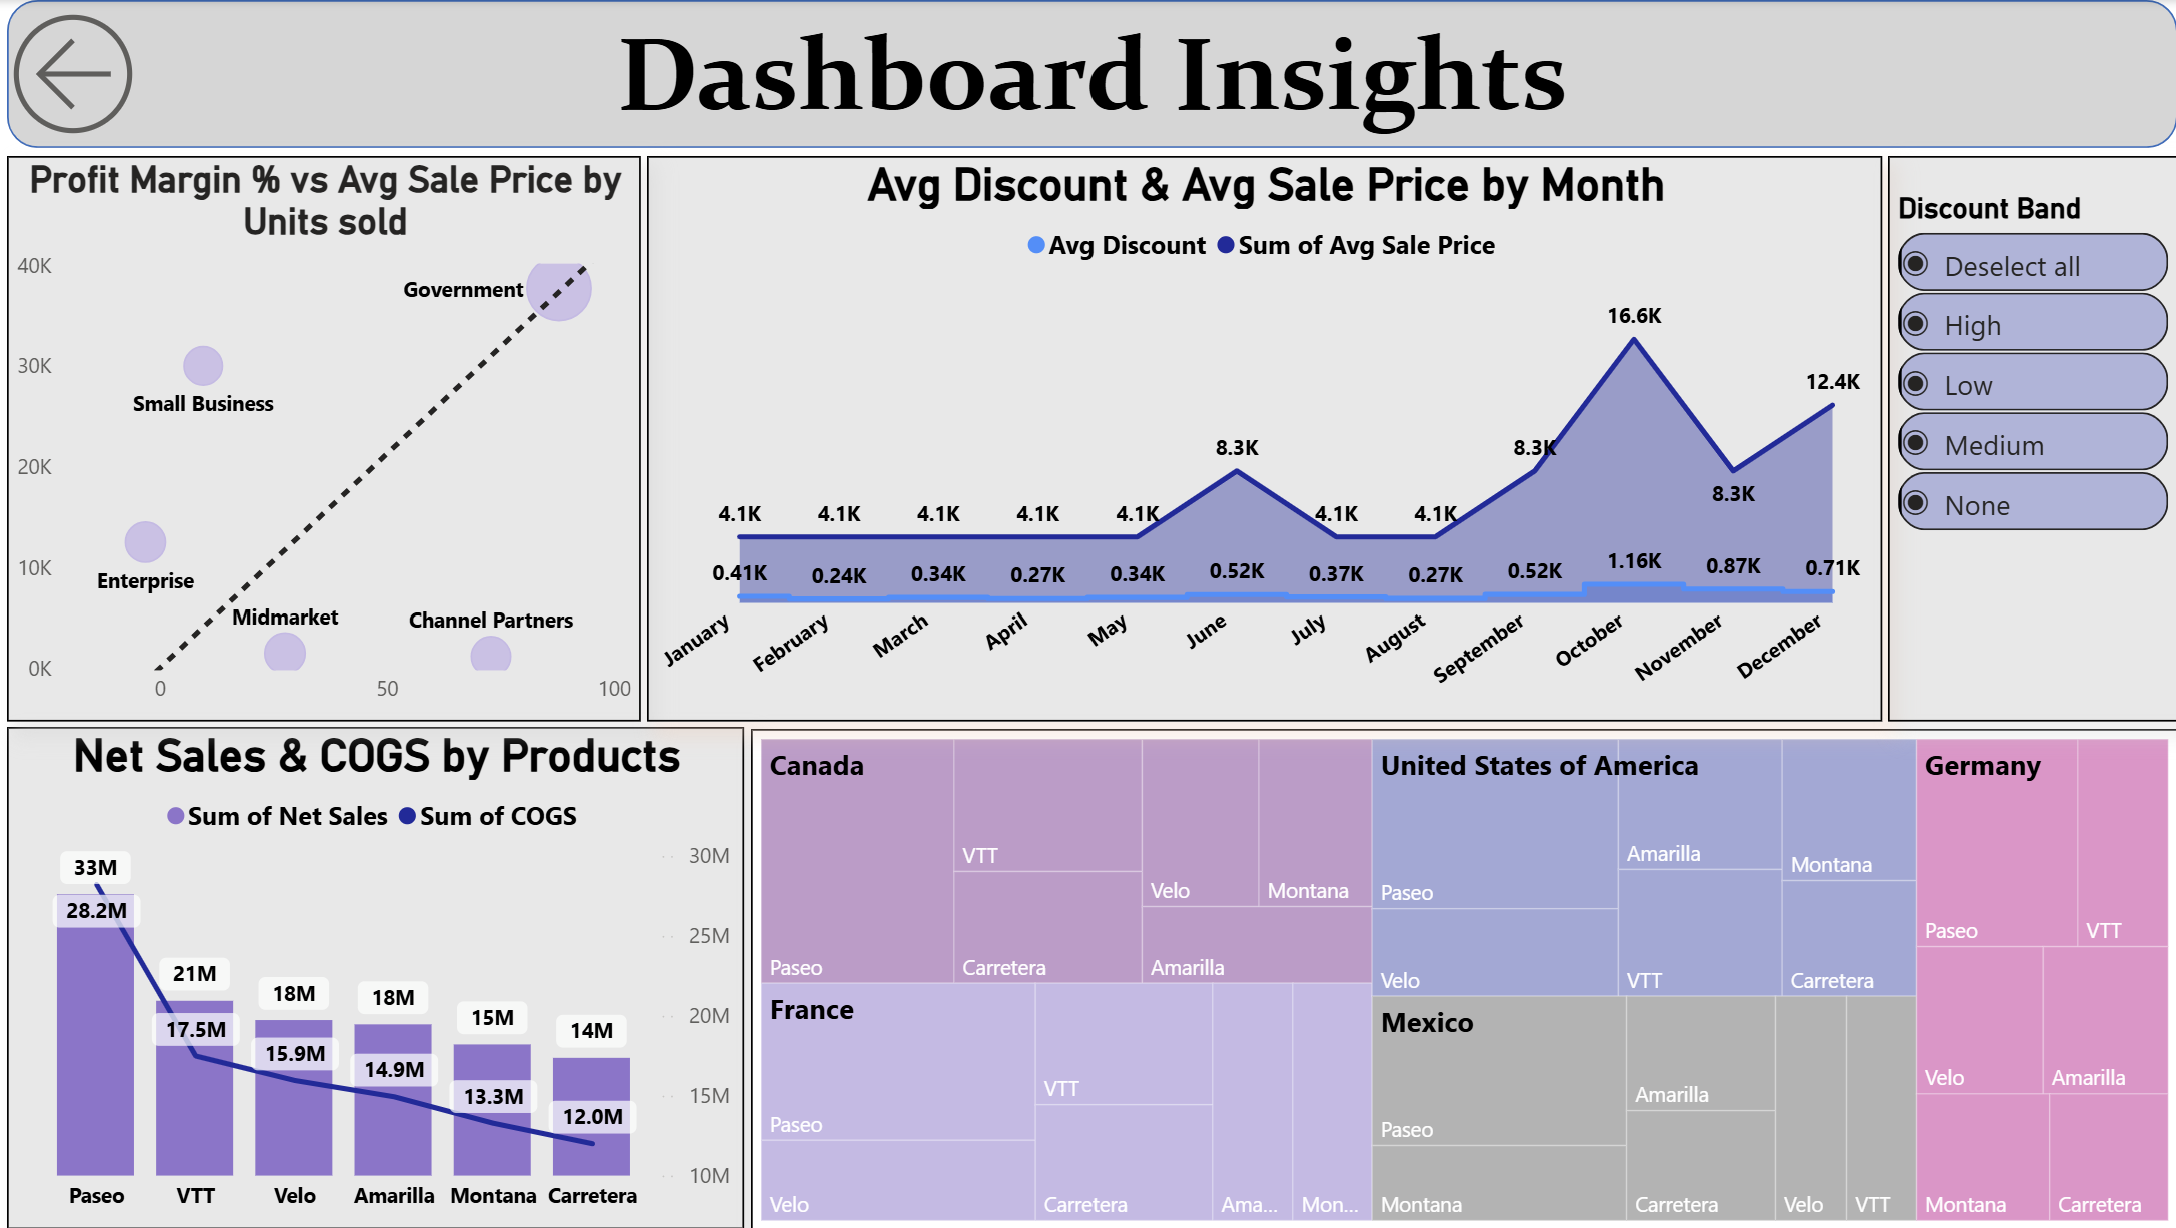

This screenshot's page, from the dashboard's own definition file:
{"tool":"powerbi","page":{"name":"Dashboard_1","canvas":[1280,720],"ordinal":11},"visuals":[{"type":"lineClusteredColumnComboChart","title":"Net Sales & COGS by Products","fields":{"Category":["financials.Product"],"Y":["Sum(financials.Net Sales)"],"Y2":["Sum(financials.COGS)"]},"box":[5,425,431.2,293.8],"z":0},{"type":"treemap","fields":{"Group":["financials.Country"],"Values":["Sum(financials.Units Sold)"],"Details":["financials.Product"]},"box":[440,426.2,835,293.8],"z":1000},{"type":"shape","box":[5,0,1270,86.7],"z":2000},{"type":"scatterChart","title":"Profit Margin % vs Avg Sale Price by Units sold","fields":{"Category":["financials.Segment"],"X":["Sum(financials.Profit Margin %)"],"Y":["Sum(financials.Avg Sale Price)"],"Size":["Sum(financials.Units Sold)"]},"box":[4.9,90.7,371,330.5],"z":3000},{"type":"areaChart","title":"Avg Discount & Avg Sale Price by Month","fields":{"Category":["financials.Date.Variation.Date Hierarchy.Month"],"Y":["Sum(financials.Avg Discount)","Sum(financials.Avg Sale Price)"]},"box":[379.1,90.7,722.6,330.5],"z":4000},{"type":"listSlicer","fields":{"Values":["financials.Discount Band"]},"box":[1105,90.7,170.1,330.5],"z":5000},{"type":"actionButton","box":[0,0,97.2,86.6],"z":6000}]}

Visuals, with their boxes in screenshot pixels (x1, y1, x2, y2), scaled from the page's 1280x720 canvas onto the 2176x1228 screenshot:
"Net Sales & COGS by Products" lineClusteredColumnComboChart: [left=8, top=725, right=742, bottom=1226]
treemap - financials.Country x Sum(financials.Units Sold): [left=748, top=727, right=2168, bottom=1227]
shape: [left=8, top=0, right=2168, bottom=148]
"Profit Margin % vs Avg Sale Price by Units sold" scatterChart: [left=8, top=155, right=639, bottom=718]
"Avg Discount & Avg Sale Price by Month" areaChart: [left=644, top=155, right=1873, bottom=718]
listSlicer - financials.Discount Band: [left=1878, top=155, right=2168, bottom=718]
actionButton: [left=0, top=0, right=165, bottom=148]
